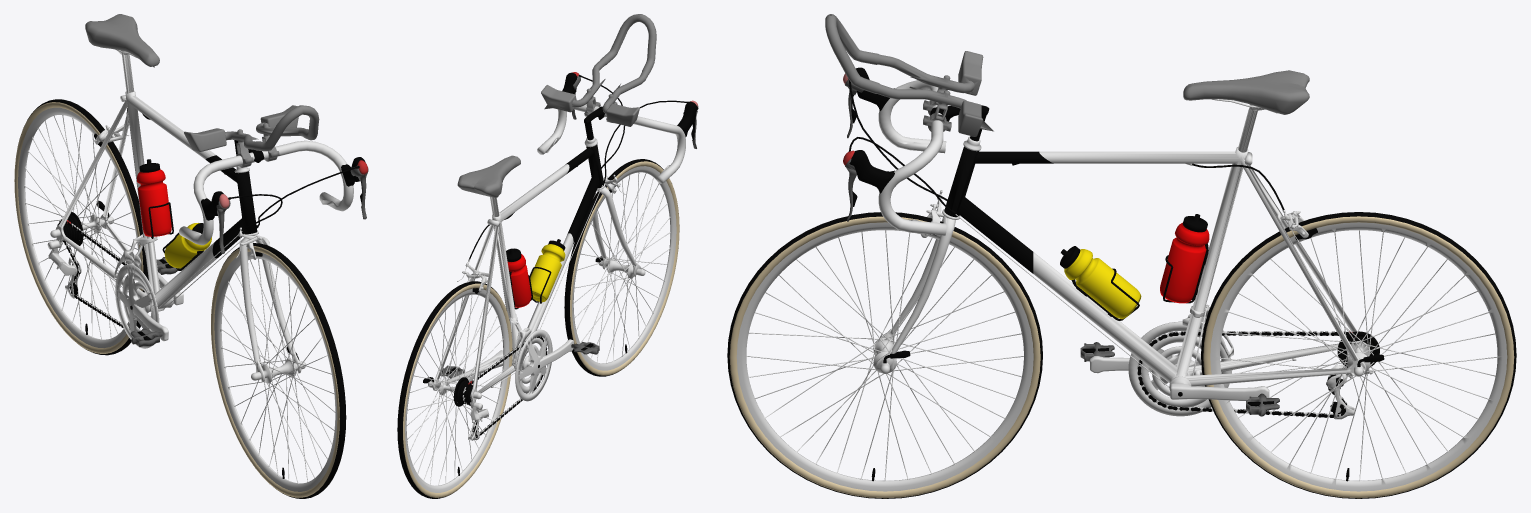
The model's file is Rennrad.fbx.
3 views of the same model, side by side, from view 1: azimuth 30°, elevation 25°; view 2: azimuth 150°, elevation 25°; view 3: azimuth 270°, elevation 25° (orthographic). The views are drawn at different scales.
Visible parts, largest first — view 1: Cadru2; view 2: Cadru2; view 3: Cadru2.
Part boxes in pixels (left/top/right/bottom): Cadru2: left=14, top=14, right=368, bottom=498; Cadru2: left=397, top=14, right=698, bottom=498; Cadru2: left=727, top=14, right=1516, bottom=498.
Size of the model in its own units: 183 by 466 by 690.
